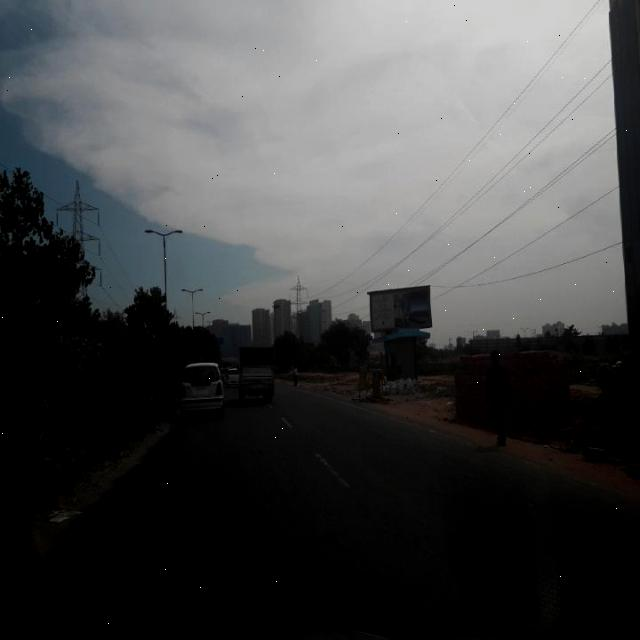D20: (113, 442, 627, 626)
D44: (312, 444, 354, 494)
